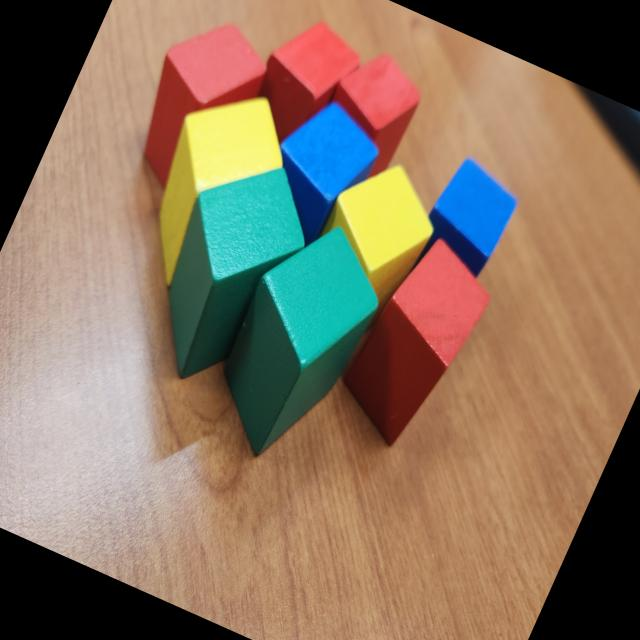blue: (246, 87, 396, 260), (410, 152, 527, 284)
green: (193, 205, 407, 481), (123, 138, 335, 405)
red: (322, 224, 509, 464), (115, 2, 284, 210), (296, 38, 434, 206), (238, 5, 372, 161)
yellow: (118, 68, 307, 311), (298, 146, 453, 325)
